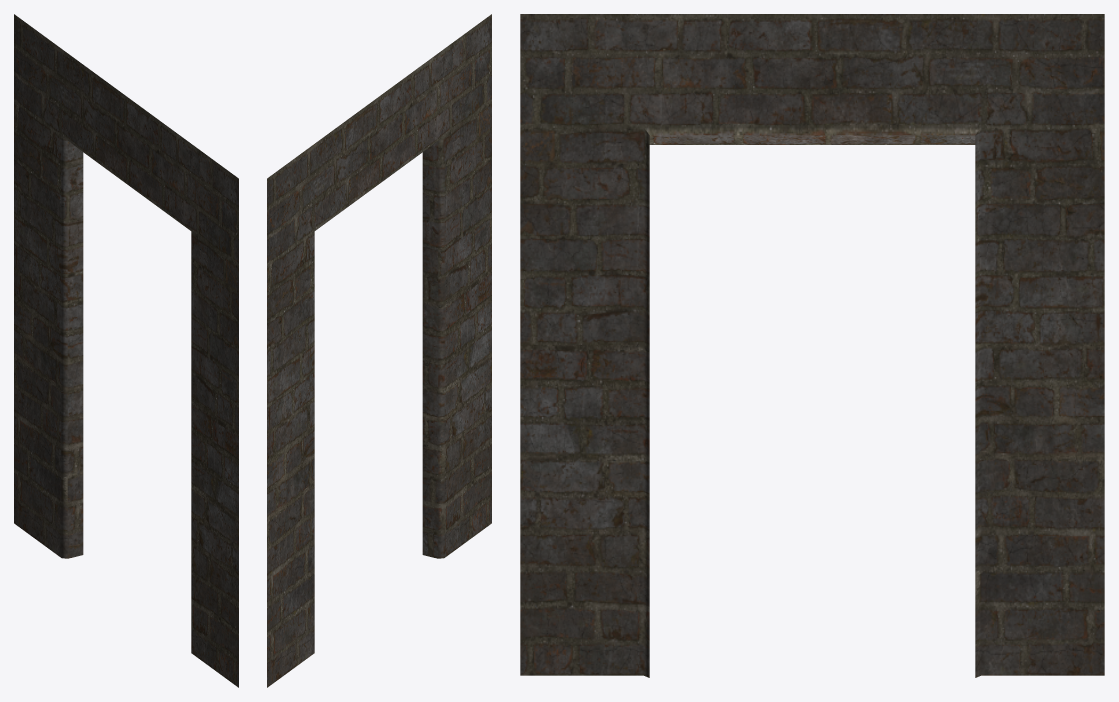
The model's file is Basement_Corridor_A_Wall_2m_Door.glb.
3 views of the same model, side by side, from view 1: azimuth 30°, elevation 25°; view 2: azimuth 150°, elevation 25°; view 3: azimuth 270°, elevation 25° (orthographic). The views are drawn at different scales.
Visible parts, largest first — view 1: Basement_Corridor_A_Wall_2m_Door; view 2: Basement_Corridor_A_Wall_2m_Door; view 3: Basement_Corridor_A_Wall_2m_Door.
Part boxes in pixels (x1,y1,x2,y2): Basement_Corridor_A_Wall_2m_Door: [14, 14, 238, 687]; Basement_Corridor_A_Wall_2m_Door: [267, 14, 491, 687]; Basement_Corridor_A_Wall_2m_Door: [520, 14, 1104, 677].
Bounding box in the file's own units: 0.1 × 2.5 × 2.
1 material, 1 textured.
